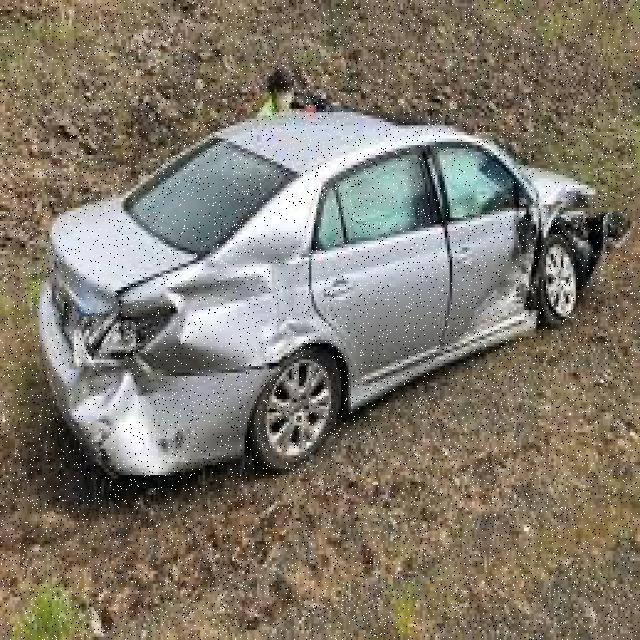Taillight-Damage: (50, 286, 200, 356)
doorouter-dent: (447, 218, 536, 346)
quaterpanel-dent: (172, 251, 312, 373)
rear-bumper-dent: (19, 350, 202, 486)
